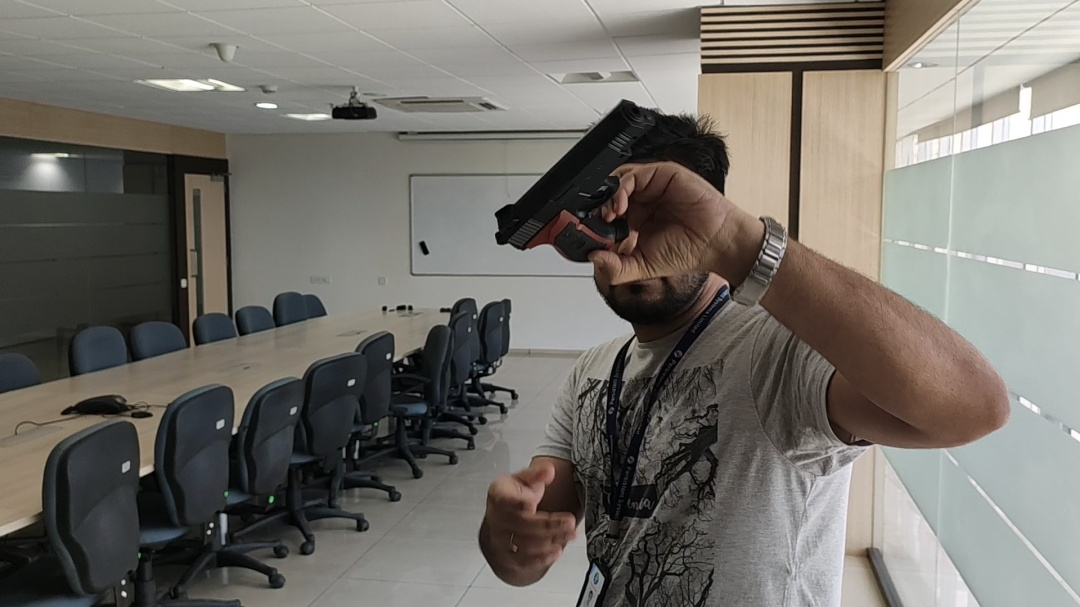gun: (489, 103, 630, 265)
